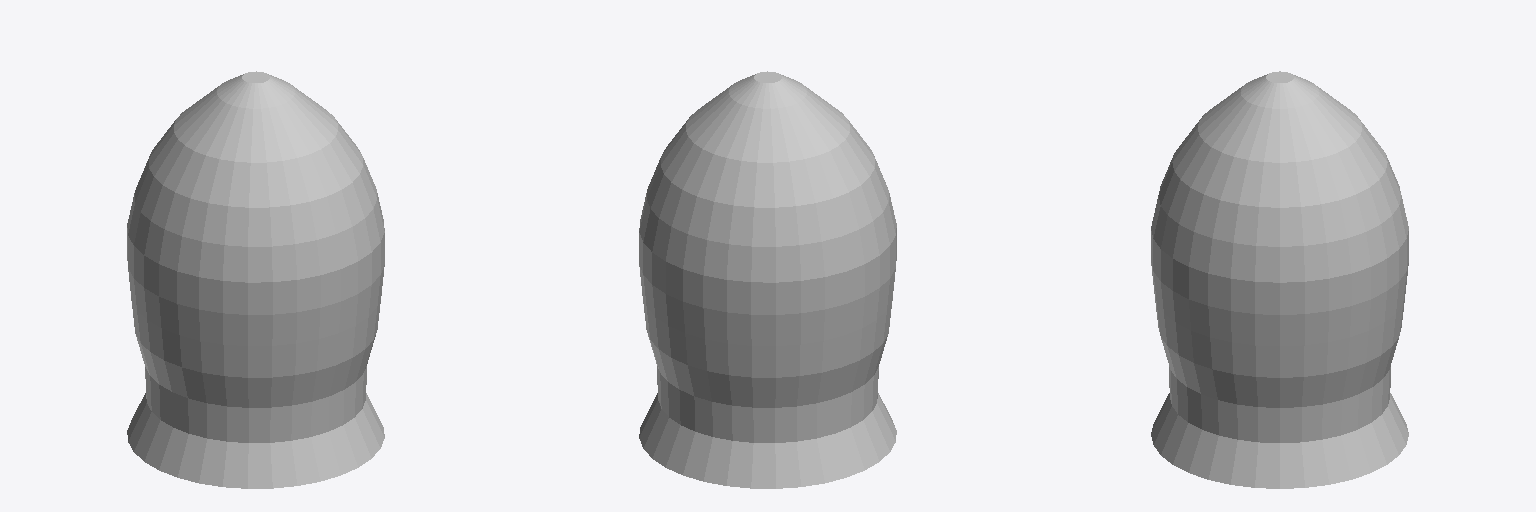
Rendered from red_peg.obj.
3 renders of one model, left to right at view 1: azimuth 30°, elevation 25°; view 2: azimuth 150°, elevation 25°; view 3: azimuth 270°, elevation 25°, orthographic.
Parts seen in each view (by area): view 1: RedPeg_RedPegMesh; view 2: RedPeg_RedPegMesh; view 3: RedPeg_RedPegMesh.
Part boxes in pixels (x1,y1,x2,y2): RedPeg_RedPegMesh: (127, 71, 384, 488); RedPeg_RedPegMesh: (639, 71, 896, 488); RedPeg_RedPegMesh: (1151, 71, 1408, 488).
Size of the model in its own units: 0.8 by 1.22 by 0.8.